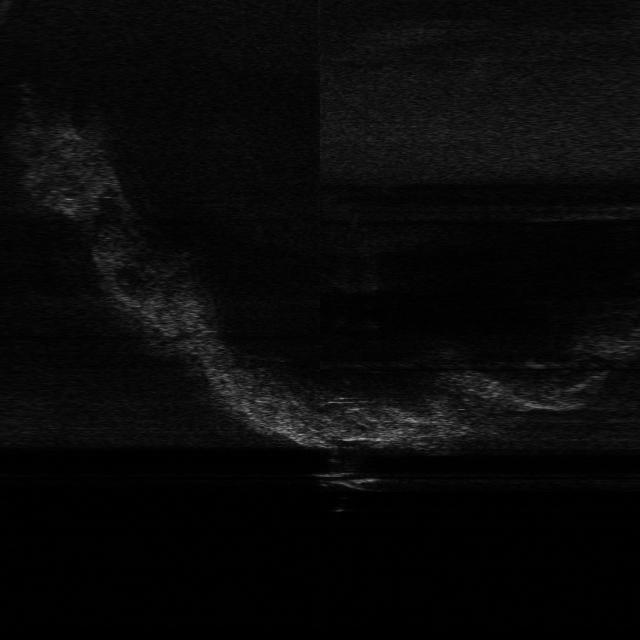plane: (308, 468, 383, 494)
